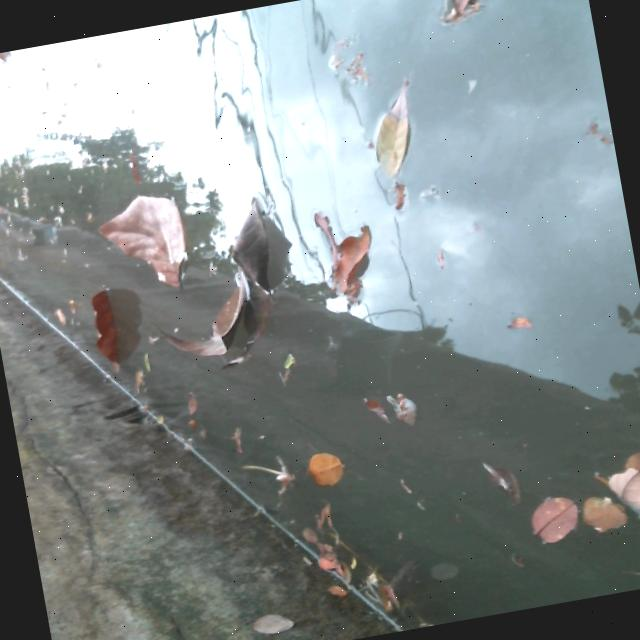Big-leaf: (144, 197, 296, 375), (86, 183, 199, 305), (309, 200, 386, 316), (78, 286, 128, 368)
Small-leaf: (360, 63, 424, 181), (504, 488, 581, 558), (568, 475, 632, 545), (593, 431, 640, 523), (429, 0, 525, 39), (293, 446, 351, 501), (387, 371, 438, 427), (360, 389, 404, 437), (303, 548, 351, 579), (324, 576, 358, 598)
